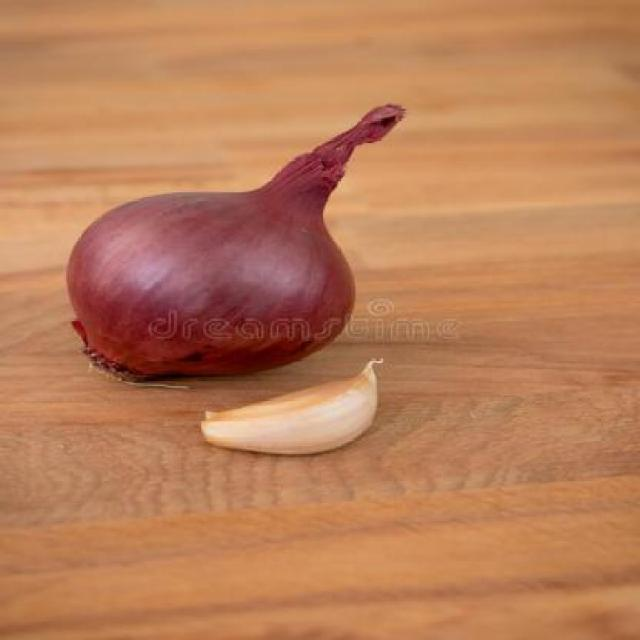Onion: (63, 104, 408, 384)
